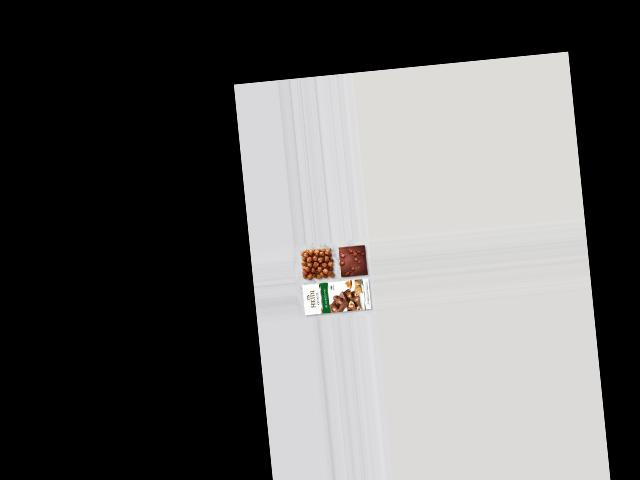chocolate: (337, 241, 369, 278)
